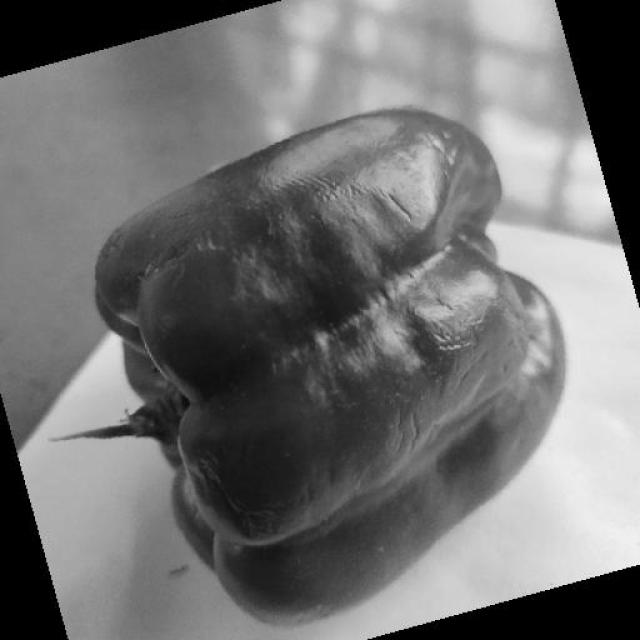Stale_Capsicum: (116, 121, 514, 565)
